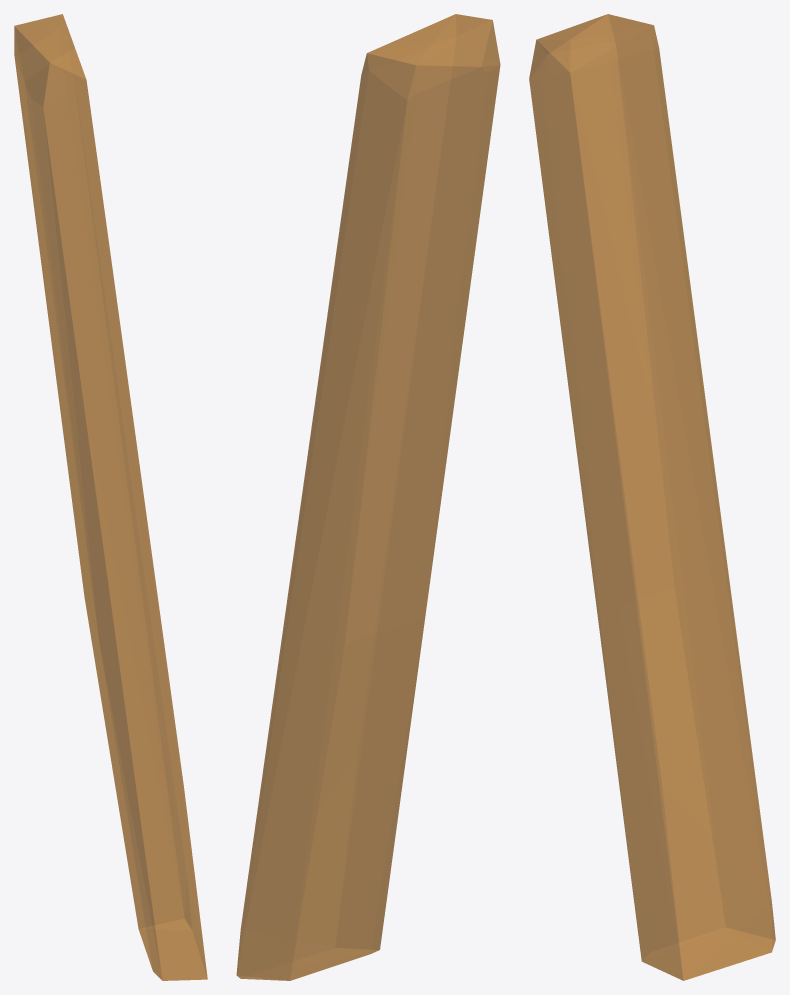
3 renders of one model, left to right at view 1: azimuth 30°, elevation 25°; view 2: azimuth 150°, elevation 25°; view 3: azimuth 330°, elevation 25°, orthographic. The views are drawn at different scales.
Parts seen in each view (by area): view 1: Shape_IndexedFaceSet.011_Shape_IndexedFaceSet.6418; view 2: Shape_IndexedFaceSet.011_Shape_IndexedFaceSet.6418; view 3: Shape_IndexedFaceSet.011_Shape_IndexedFaceSet.6418.
Part boxes in pixels (x1,y1,x2,y2): Shape_IndexedFaceSet.011_Shape_IndexedFaceSet.6418: (14, 14, 207, 980); Shape_IndexedFaceSet.011_Shape_IndexedFaceSet.6418: (236, 14, 500, 980); Shape_IndexedFaceSet.011_Shape_IndexedFaceSet.6418: (529, 14, 775, 980).
Size of the model in its own units: 0.2387 by 1.08 by 0.1231.
